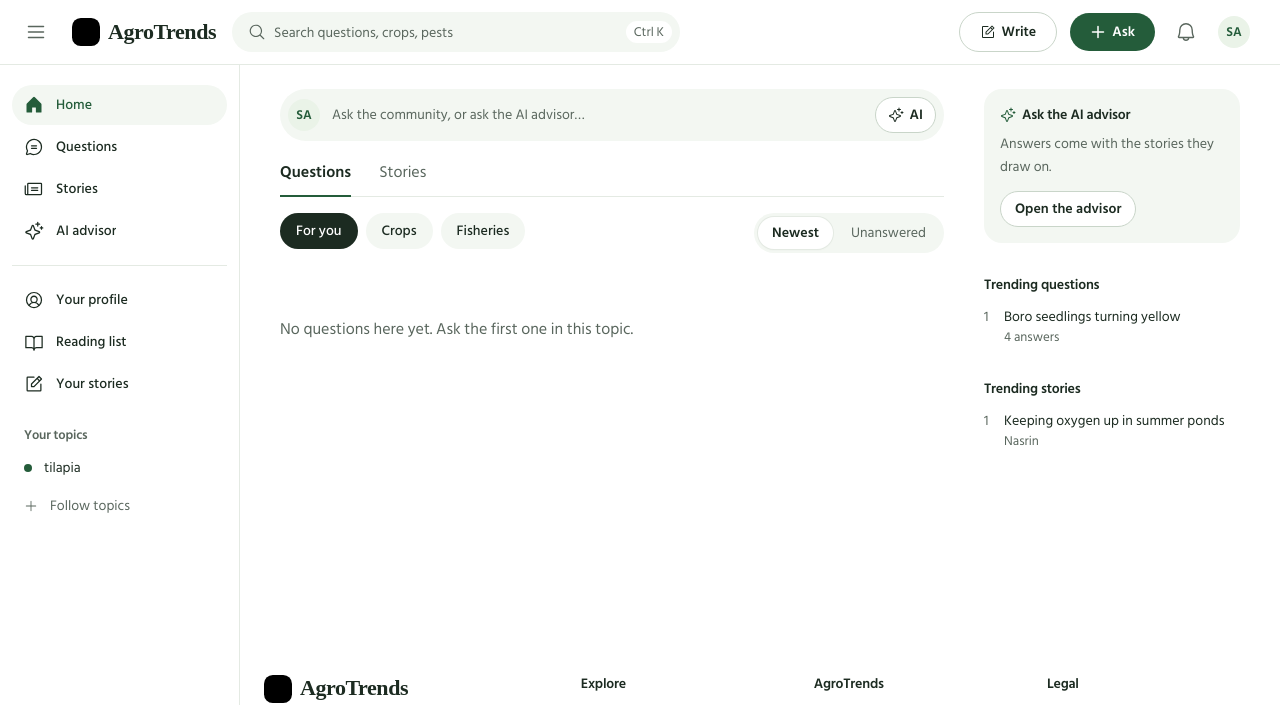
Test: each tab has its own empty state
Expected: the text "No questions here yet. Ask the first one in this topic." is shown, [280, 316, 633, 342]
Click the 1st link "Stories". click: {"x": 403, "y": 172}
box: [379, 159, 426, 185]
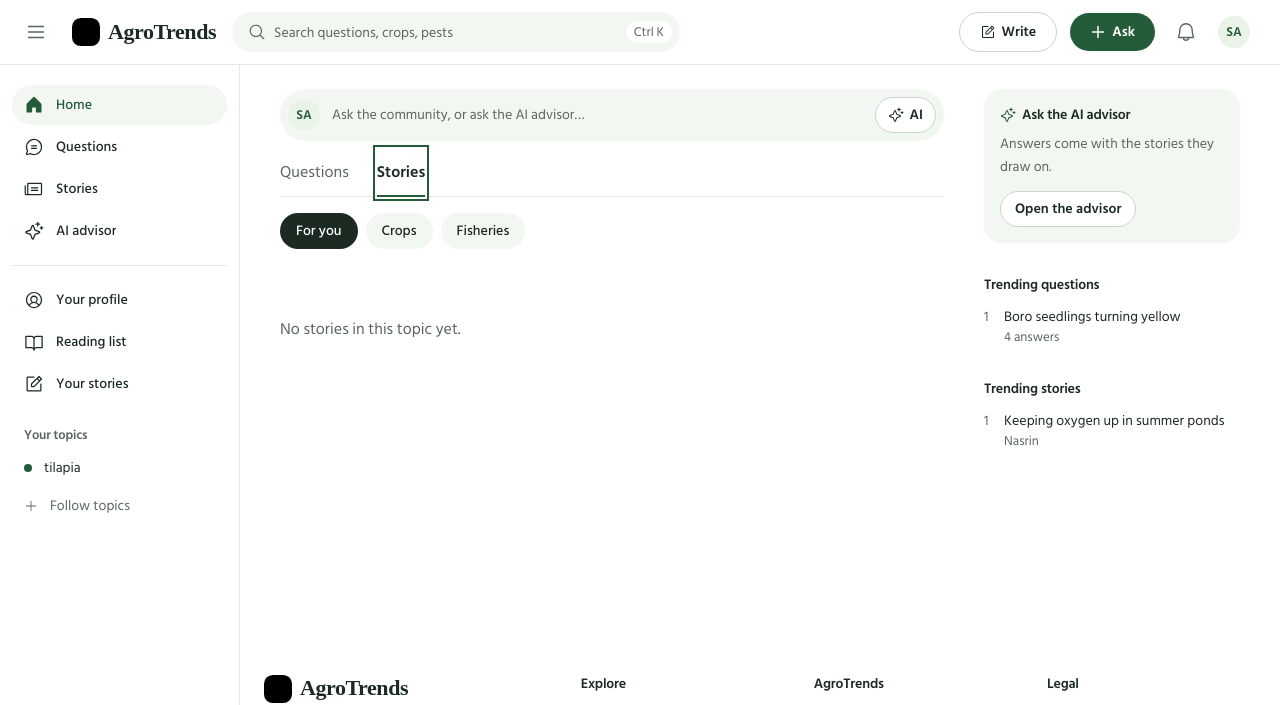
Now the text "No stories in this topic yet." is shown, box [280, 316, 460, 342]
